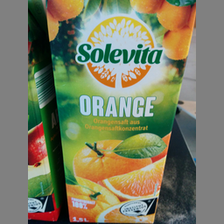juice: (44, 1, 197, 223)
